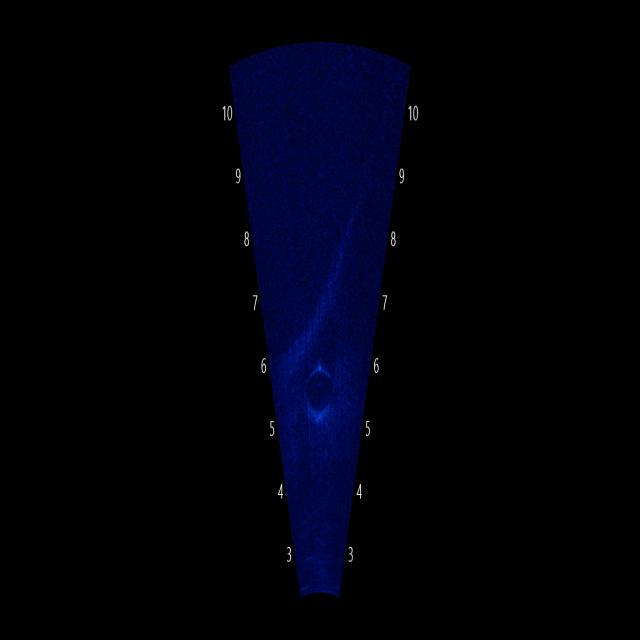circle: (305, 350, 338, 426)
